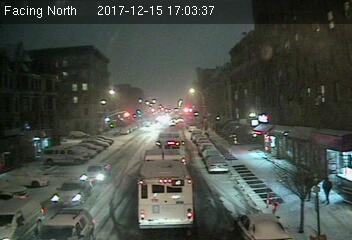bus: (139, 149, 195, 229)
car: (1, 197, 48, 240), (33, 210, 94, 240), (233, 213, 300, 240), (52, 178, 93, 209), (81, 162, 111, 183), (206, 158, 230, 173)
